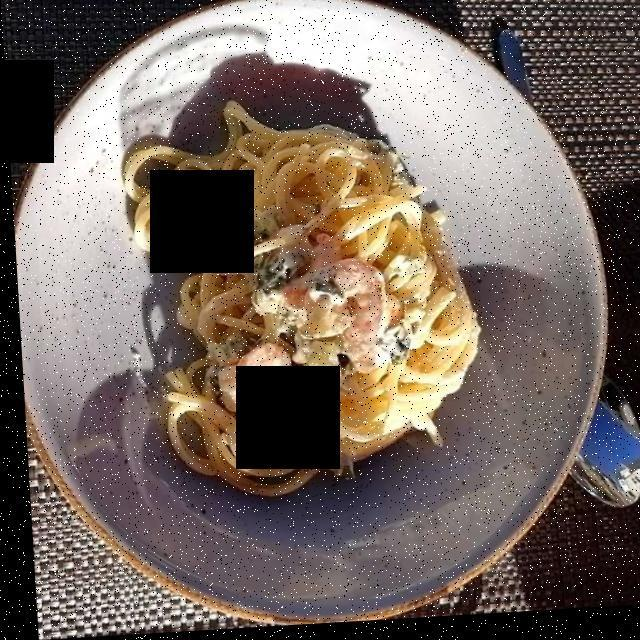pasta: (126, 110, 468, 494)
shrimp: (217, 264, 380, 428)
